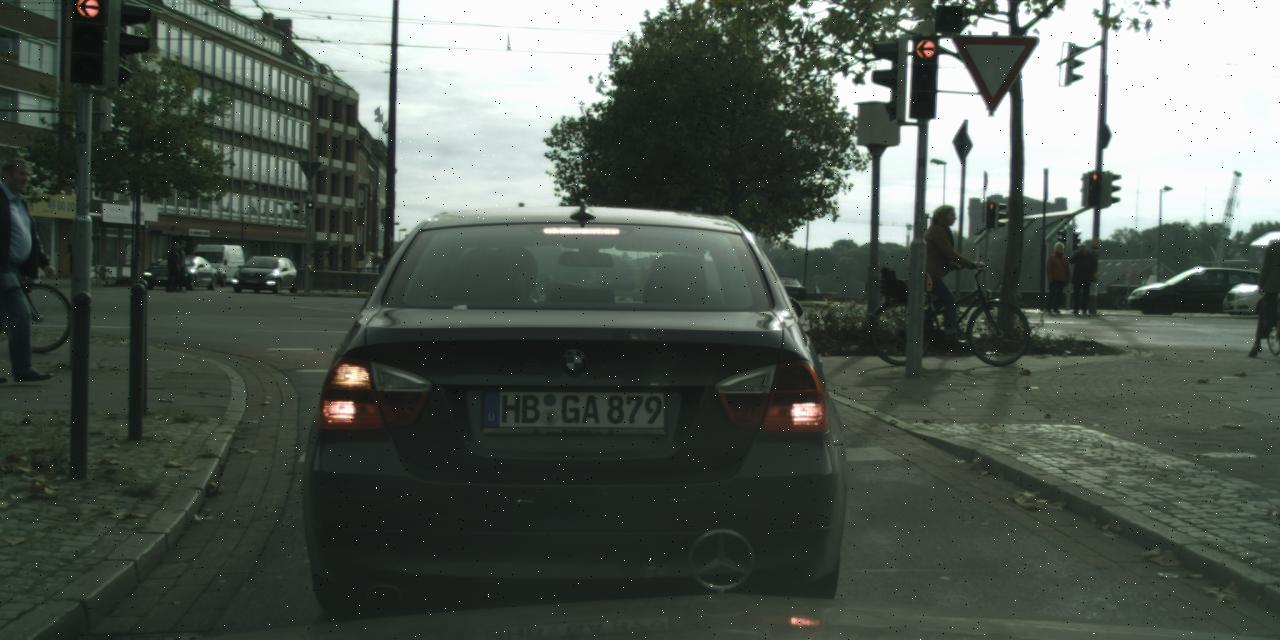ped: (0, 158, 61, 383), (916, 205, 968, 335), (1253, 238, 1279, 351), (1041, 241, 1070, 312), (1068, 244, 1096, 312), (164, 242, 183, 292), (171, 241, 190, 290)
